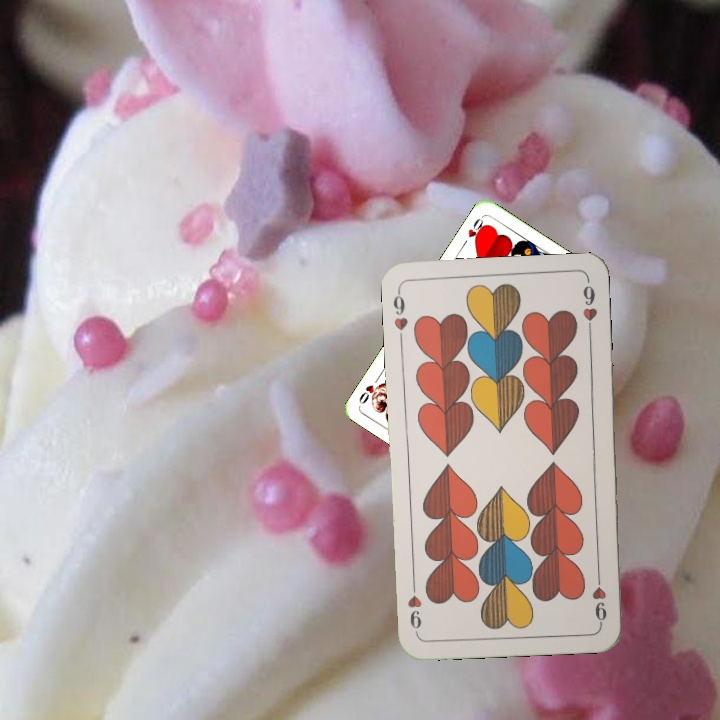H9: (588, 567, 610, 626), (389, 286, 411, 345)
HO: (459, 212, 489, 249)
